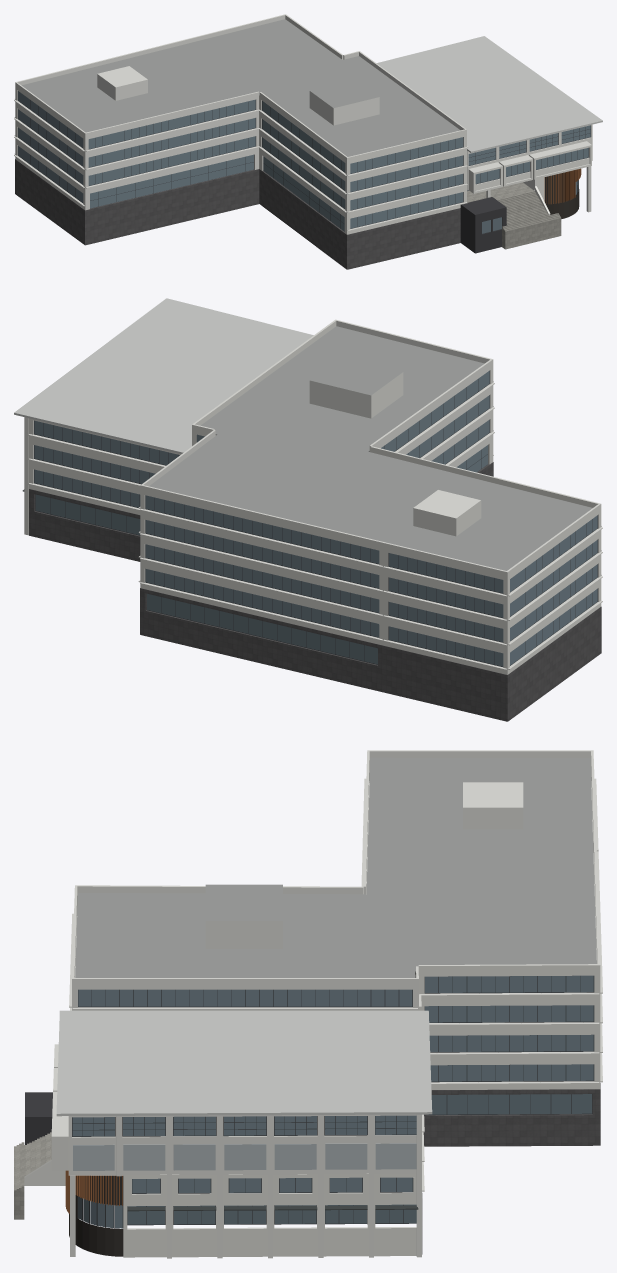
3 views of the same model, one above another, from view 1: azimuth 30°, elevation 25°; view 2: azimuth 150°, elevation 25°; view 3: azimuth 270°, elevation 25° (orthographic). The views are drawn at different scales.
Visible parts, largest first — view 1: studentUnion__panel, studentUnion__roof, studentUnion__glass, studentUnion__base, studentUnion__trim, studentUnion__frame, studentUnion__stair, studentUnion__metal, studentUnion__woodback, studentUnion__wood; view 2: studentUnion__roof, studentUnion__panel, studentUnion__glass, studentUnion__trim, studentUnion__base, studentUnion__frame, studentUnion__shopglass; view 3: studentUnion__roof, studentUnion__panel, studentUnion__trim, studentUnion__glass, studentUnion__panelgrey, studentUnion__shopglass, studentUnion__base, studentUnion__frame, studentUnion__woodback, studentUnion__stair, studentUnion__metal, studentUnion__wood (+1 smaller).
Part boxes in pixels (x1,y1,x2,y2): studentUnion__panel: (14,14,592,234); studentUnion__roof: (22,19,460,156); studentUnion__glass: (18,91,590,231); studentUnion__base: (15,159,460,269); studentUnion__trim: (376,36,602,153); studentUnion__frame: (17,91,590,233); studentUnion__stair: (467,182,561,249); studentUnion__metal: (460,197,506,253); studentUnion__woodback: (259,96,579,218); studentUnion__wood: (544,168,581,204); studentUnion__roof: (149,326,592,570); studentUnion__panel: (24,319,602,674); studentUnion__glass: (34,371,597,666); studentUnion__trim: (14,298,313,453); studentUnion__base: (29,462,601,721); studentUnion__frame: (34,370,597,666); studentUnion__shopglass: (35,494,377,664); studentUnion__roof: (75,757,596,977); studentUnion__panel: (24,750,602,1258); studentUnion__trim: (56,1010,432,1116); studentUnion__glass: (72,975,593,1228); studentUnion__panelgrey: (73,1143,416,1170); studentUnion__shopglass: (127,1094,591,1224); studentUnion__base: (422,1083,600,1254); studentUnion__frame: (72,975,594,1228); studentUnion__woodback: (69,972,415,1256); studentUnion__stair: (14,1132,51,1219); studentUnion__metal: (25,1092,52,1144); studentUnion__wood: (65,1170,122,1214).
Size of the model in its own units: 91.88 by 26 by 68.64.
14 materials, 2 textured.
